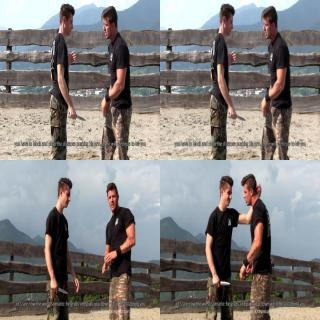knife: (68, 108, 88, 122), (228, 108, 248, 122), (49, 282, 69, 296), (211, 277, 231, 287)
